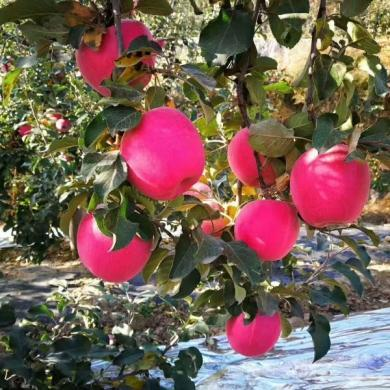apple: (121, 107, 205, 200), (290, 143, 373, 227), (76, 209, 155, 283), (233, 199, 299, 260), (226, 311, 282, 357)
